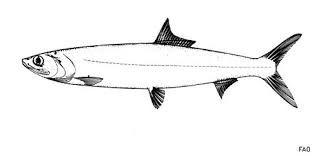Tenpounder: (22, 16, 305, 110)
